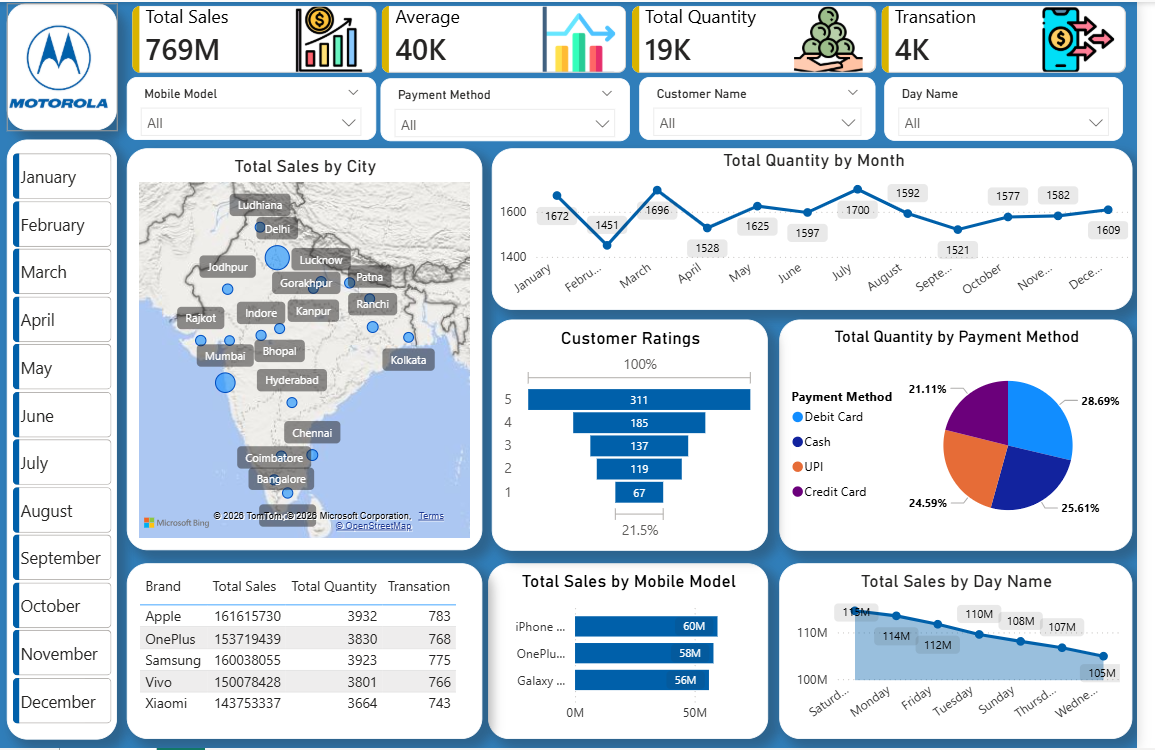

The dashboard page shown, as its layout file describes it:
{"tool":"powerbi","page":{"name":"Page 2","canvas":[1100,720],"ordinal":0},"visuals":[{"type":"shape","box":[8.7,1.2,106.6,122.7],"z":0},{"type":"image","box":[9.9,7.4,97.9,110.3],"z":1000},{"type":"shape","box":[8.7,132.7,106.6,579],"z":2000},{"type":"advancedSlicerVisual","fields":{"Values":["Sales_data.Date.Variation.Date Hierarchy.Month"]},"box":[9.9,141.3,105.4,570.3],"z":3000},{"type":"cardVisual","fields":{"Data":["Sales_data.Total Sales","Sales_data.Average","Sales_data.Total Quantity","Sales_data.Transation"]},"box":[125.2,1.2,969.6,70.7],"z":4000},{"type":"map","fields":{"Category":["Sales_data.City"],"Size":["Sales_data.Total Sales"]},"box":[124,141.3,343.4,388.1],"z":5000},{"type":"lineChart","fields":{"Category":["Sales_data.Date.Variation.Date Hierarchy.Month","Sales_data.Date.Variation.Date Hierarchy.Day"],"Y":["Sales_data.Total Quantity"]},"box":[476.1,141.3,618.7,156.2],"z":6000},{"type":"barChart","fields":{"Category":["Sales_data.Mobile Model"],"Y":["Sales_data.Total Sales"]},"box":[472.4,541.8,270.3,169.9],"z":7000},{"type":"pieChart","fields":{"Category":["Sales_data.Payment Method"],"Y":["Sales_data.Total Quantity"]},"box":[753.8,306.2,341,223.2],"z":8000},{"type":"funnel","title":"Customer Ratings","fields":{"Category":["Sales_data.Customer Ratings"],"Y":["CountNonNull(Sales_data.Customer Ratings)"]},"box":[476.1,306.2,266.6,223.2],"z":9000},{"type":"areaChart","fields":{"Category":["Sales_data.Day Name"],"Y":["Sales_data.Total Sales"]},"box":[753.8,541.8,341,169.9],"z":10000},{"type":"tableEx","fields":{"Values":["Sales_data.Brand","Sales_data.Total Sales","Sales_data.Total Quantity","Sales_data.Transation"]},"box":[124,541.8,343.4,169.9],"z":11000},{"type":"slicer","fields":{"Values":["Sales_data.Mobile Model"]},"box":[124,71.9,240.5,60.8],"z":12000},{"type":"slicer","fields":{"Values":["Sales_data.Payment Method"]},"box":[369.5,73.2,240.5,60.8],"z":13000},{"type":"slicer","fields":{"Values":["Sales_data.Customer Name"]},"box":[618.7,71.9,228.1,60.8],"z":14000},{"type":"slicer","fields":{"Values":["Sales_data.Day Name"]},"box":[855.5,71.9,230.6,62],"z":15000}]}

Visuals, with their boxes in screenshot pixels (x1, y1, x2, y2), scaled from the page's 1100x720 canvas onto the 1155x750 screenshot:
shape: (x1=9, y1=1, x2=121, y2=129)
image: (x1=10, y1=8, x2=113, y2=123)
shape: (x1=9, y1=138, x2=121, y2=741)
advancedSlicerVisual - Sales_data.Date.Variation.Date Hierarchy.Month: (x1=10, y1=147, x2=121, y2=741)
cardVisual - Sales_data.Total Sales x Sales_data.Average: (x1=131, y1=1, x2=1150, y2=75)
map - Sales_data.City x Sales_data.Total Sales: (x1=130, y1=147, x2=491, y2=551)
lineChart - Sales_data.Date.Variation.Date Hierarchy.Month x Sales_data.Date.Variation.Date Hierarchy.Day: (x1=500, y1=147, x2=1150, y2=310)
barChart - Sales_data.Mobile Model x Sales_data.Total Sales: (x1=496, y1=564, x2=780, y2=741)
pieChart - Sales_data.Payment Method x Sales_data.Total Quantity: (x1=791, y1=319, x2=1150, y2=551)
"Customer Ratings" funnel: (x1=500, y1=319, x2=780, y2=551)
areaChart - Sales_data.Day Name x Sales_data.Total Sales: (x1=791, y1=564, x2=1150, y2=741)
tableEx - Sales_data.Brand x Sales_data.Total Sales: (x1=130, y1=564, x2=491, y2=741)
slicer - Sales_data.Mobile Model: (x1=130, y1=75, x2=383, y2=138)
slicer - Sales_data.Payment Method: (x1=388, y1=76, x2=640, y2=140)
slicer - Sales_data.Customer Name: (x1=650, y1=75, x2=889, y2=138)
slicer - Sales_data.Day Name: (x1=898, y1=75, x2=1140, y2=139)
